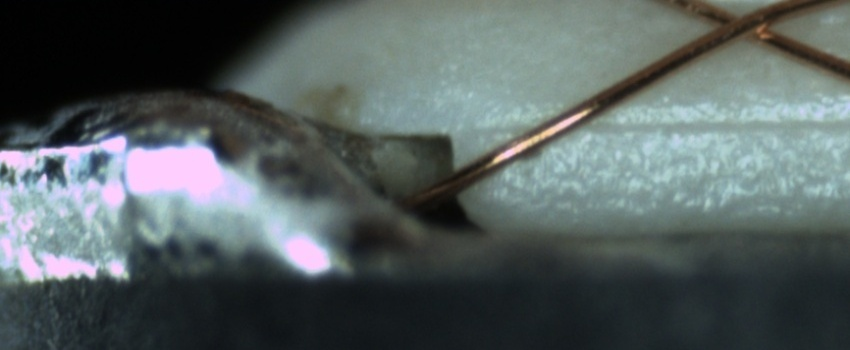CL: (701, 1, 793, 47)
DL: (472, 101, 849, 162)
